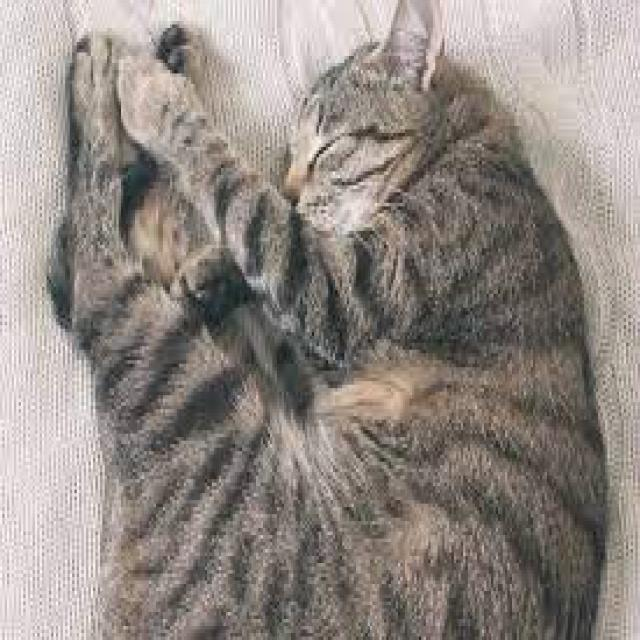Cat: (45, 2, 611, 640)
